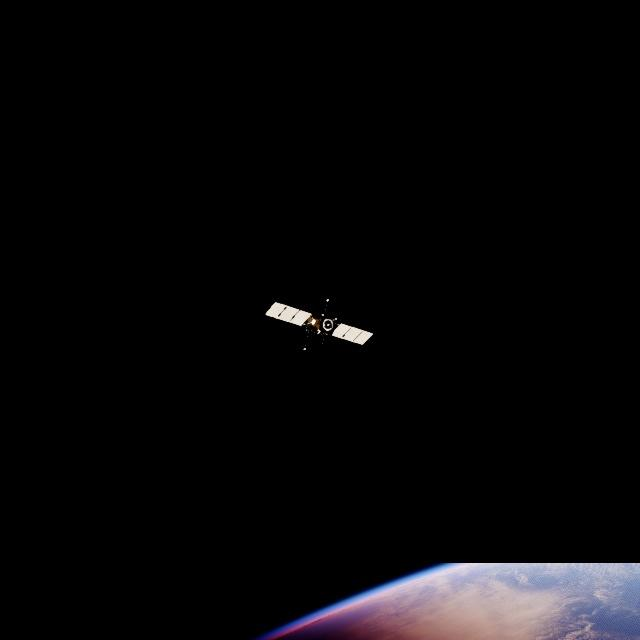medium_debris: (265, 299, 372, 347)
